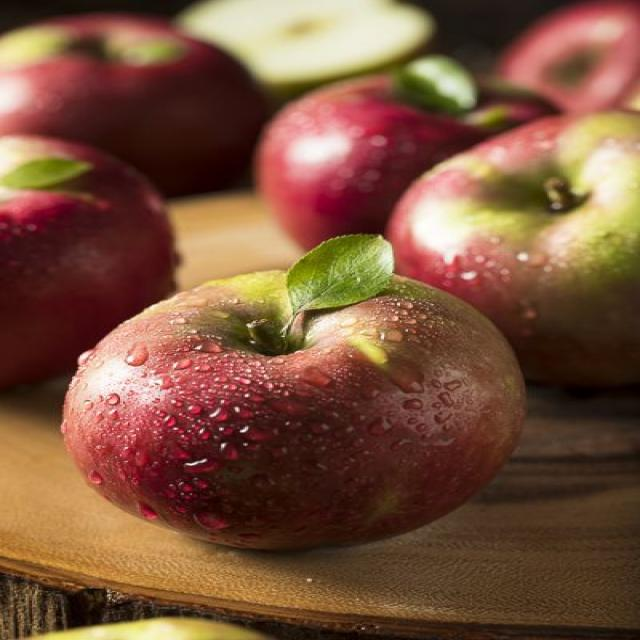apple: (63, 236, 524, 549), (388, 112, 639, 387), (256, 57, 553, 248), (0, 14, 267, 196), (0, 136, 175, 387), (178, 0, 435, 99), (500, 0, 639, 111), (37, 618, 268, 639)
